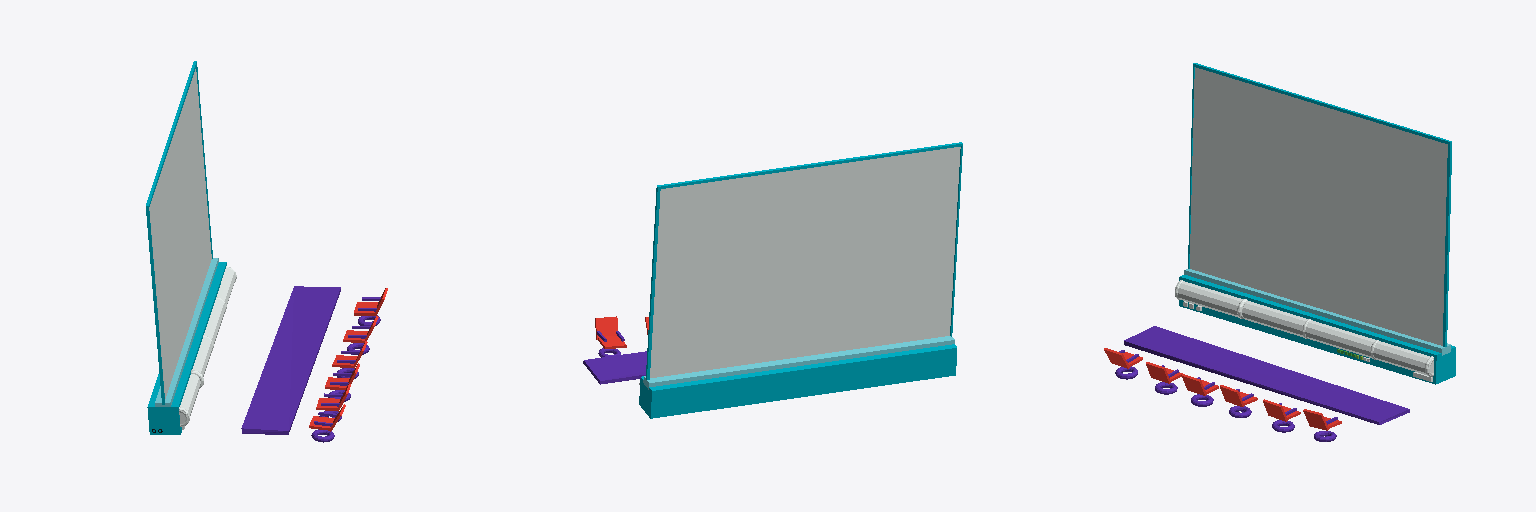
File: model-triangulated.obj
3 views of the same model, side by side, from view 1: azimuth 30°, elevation 25°; view 2: azimuth 150°, elevation 25°; view 3: azimuth 270°, elevation 25° (orthographic).
Parts seen in each view (by area): view 1: group[number redacted], group[number redacted]; view 2: group[number redacted], group[number redacted]; view 3: group[number redacted], group[number redacted].
Boxes of the visible parts, x1,y1,x2,y2 form: group[number redacted]: [146, 61, 236, 434]; group[number redacted]: [241, 286, 387, 442]; group[number redacted]: [639, 142, 962, 418]; group[number redacted]: [583, 316, 648, 384]; group[number redacted]: [1175, 63, 1455, 384]; group[number redacted]: [1104, 326, 1409, 441].
Bounding box in the file's own units: 5.27 × 4.17 × 5.26.